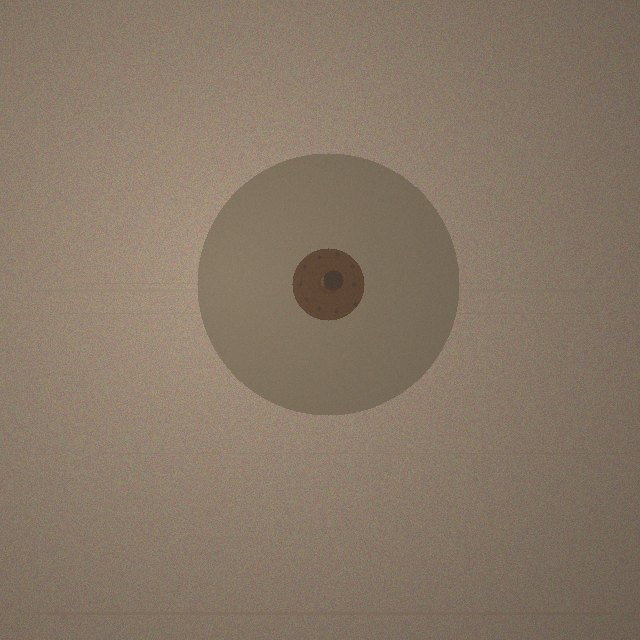cold_weld: (197, 153, 459, 415)
